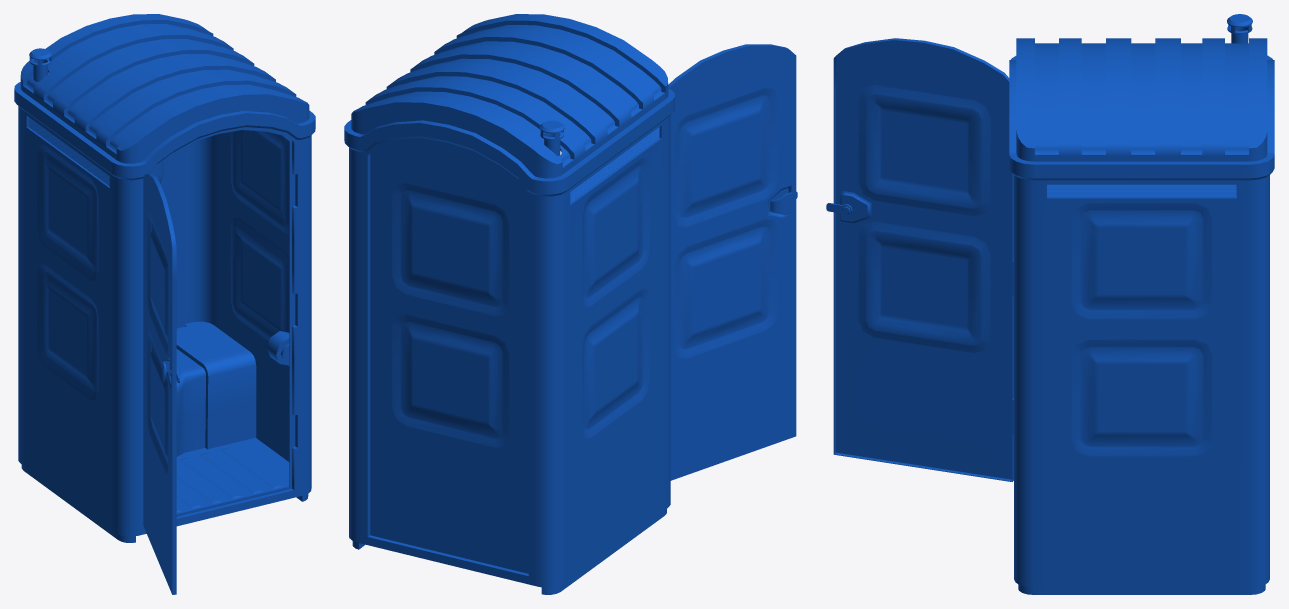
The model's file is Plastic Toilet Cabin LP.fbx.
3 renders of one model, left to right at view 1: azimuth 30°, elevation 25°; view 2: azimuth 150°, elevation 25°; view 3: azimuth 270°, elevation 25°, orthographic. The views are drawn at different scales.
Parts seen in each view (by area): view 1: Object.001_low, Object.004_low, Object.002_low, Object.005_low, Object.006_low, Object.012_low, Object.009_low, Object.011_low; view 2: Object.001_low, Object.002_low, Object.004_low, Object.012_low, Object.009_low; view 3: Object.001_low, Object.002_low, Object.004_low, Object.012_low, Object.009_low.
Part boxes in pixels (box(x1,y1,x2,y2)): Object.001_low: box(18, 106, 311, 542); Object.004_low: box(14, 14, 315, 180); Object.002_low: box(143, 173, 176, 594); Object.005_low: box(176, 321, 256, 456); Object.006_low: box(176, 437, 289, 513); Object.012_low: box(28, 117, 109, 185); Object.009_low: box(29, 48, 51, 81); Object.011_low: box(266, 331, 289, 365); Object.001_low: box(349, 115, 670, 594); Object.002_low: box(668, 44, 796, 480); Object.004_low: box(344, 14, 674, 196); Object.012_low: box(570, 127, 659, 202); Object.009_low: box(539, 120, 564, 156); Object.001_low: box(1014, 175, 1269, 594); Object.002_low: box(833, 38, 1013, 481); Object.004_low: box(1009, 38, 1274, 180); Object.012_low: box(1047, 184, 1236, 197); Object.009_low: box(1227, 14, 1252, 195).
Bounding box in the file's own units: 581 × 1022 × 857.
